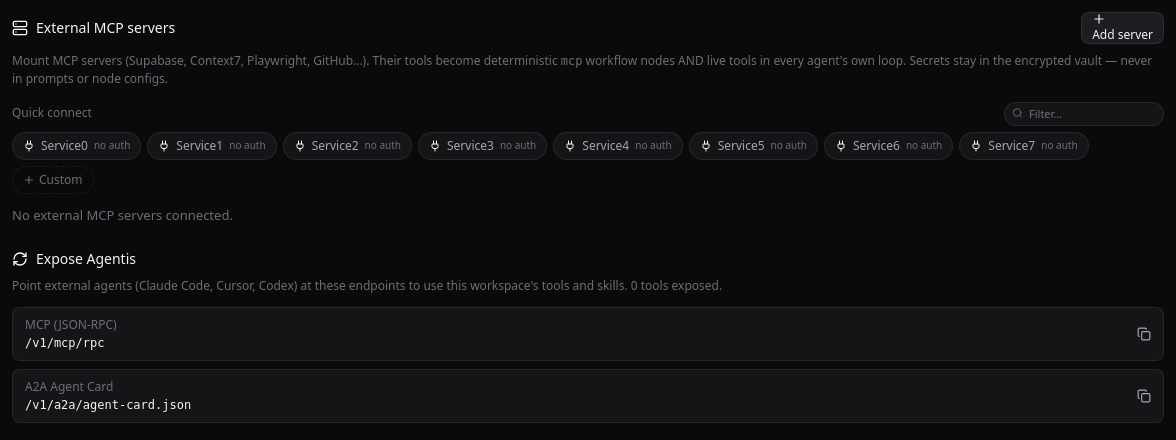
Test case: <McpConnectionsPanel /> › filters the quick-connect catalog by name/category/description (INTEGRATION-CEILING-10X §4)
The width and height of the screenshot is (1176, 440).
Expected: the button "Service0 no auth" is shown, left=12, top=132, right=141, bottom=160
Expected: the button "Service7 no auth" is shown, left=959, top=132, right=1089, bottom=160
Type "payments" into the field with placeholder "Filter…" at point(1084, 114), box left=1004, top=102, right=1164, bottom=126
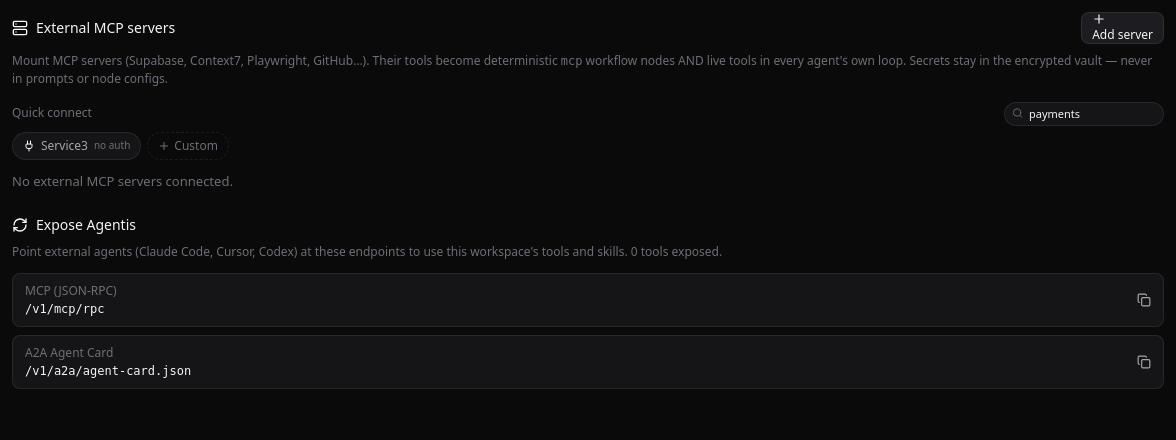
Expected: the button "Service3 no auth" is shown, left=12, top=132, right=141, bottom=160
Expected: the button "Service0" is gone
Replace the text in the field with placeholder "Filter…" with "no-such-server" at point(1084, 114), box left=1004, top=102, right=1164, bottom=126
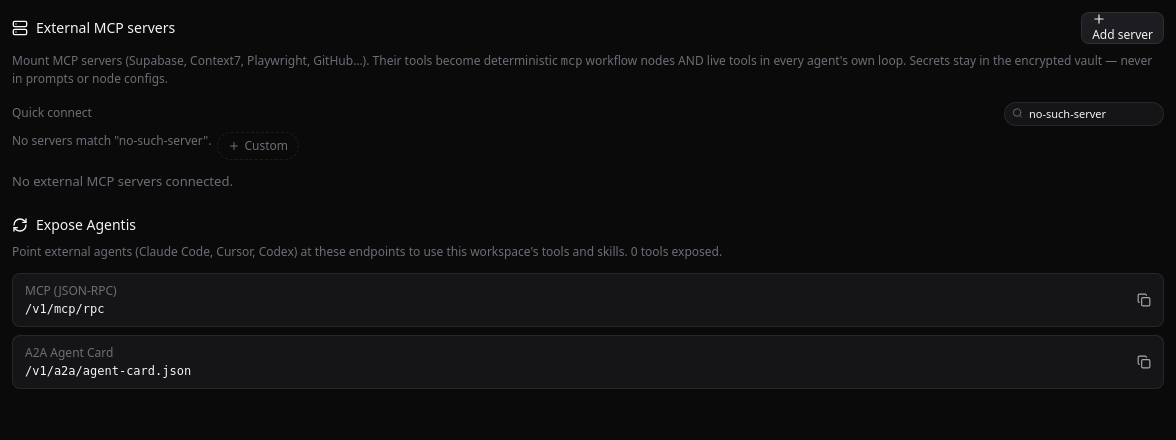
Expected: the text "No servers match \"no-such-server\"." is shown, left=12, top=132, right=211, bottom=160
